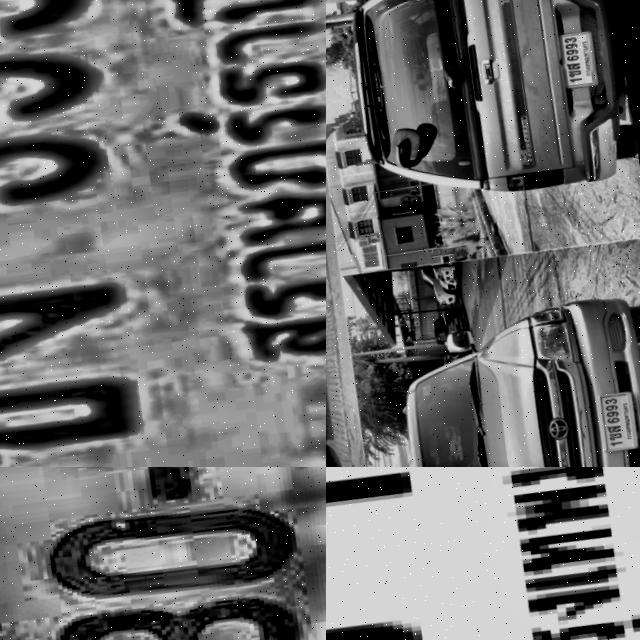license-plate: (0, 0, 326, 467), (0, 467, 326, 640), (326, 467, 640, 640), (549, 20, 611, 91), (592, 376, 640, 454)
